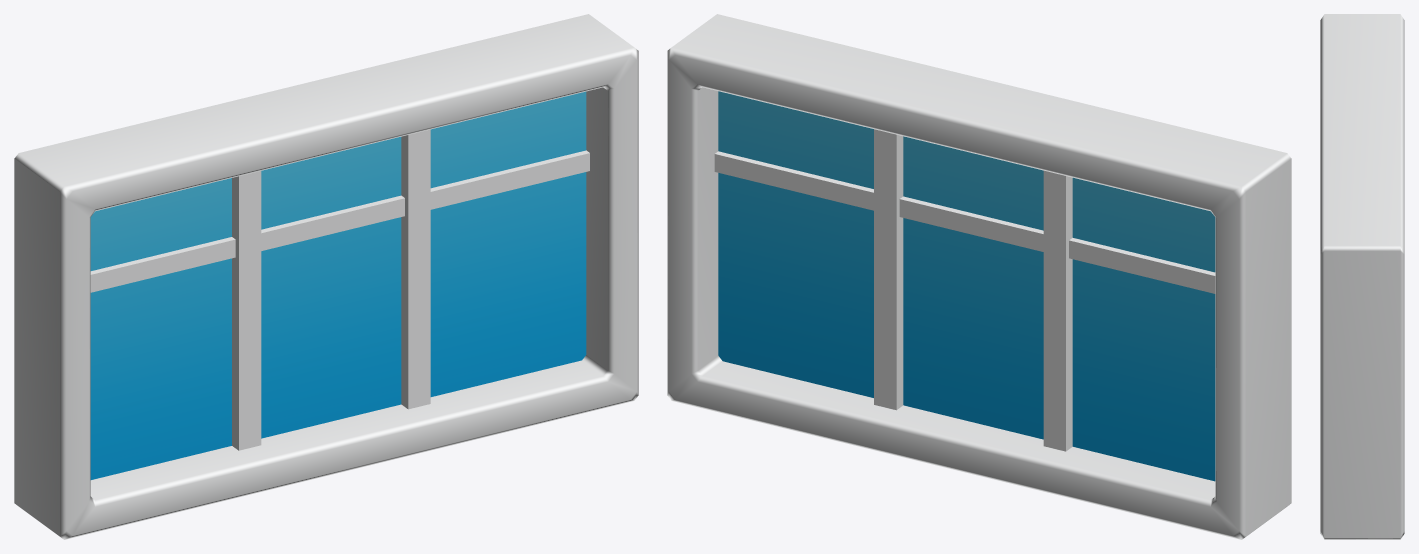
Rendered from Window_White_03.glb.
3 renders of one model, left to right at view 1: azimuth 30°, elevation 25°; view 2: azimuth 150°, elevation 25°; view 3: azimuth 270°, elevation 25°, orthographic. The views are drawn at different scales.
Visible parts, largest first — view 1: Window_White_03; view 2: Window_White_03; view 3: Window_White_03.
Part boxes in pixels (x1,y1,x2,y2): Window_White_03: (14, 14, 638, 539); Window_White_03: (667, 14, 1291, 539); Window_White_03: (1320, 14, 1404, 539).
Size of the model in its own units: 2.64 by 1.54 by 0.4.
Materials: 2 (2 with a texture image).
